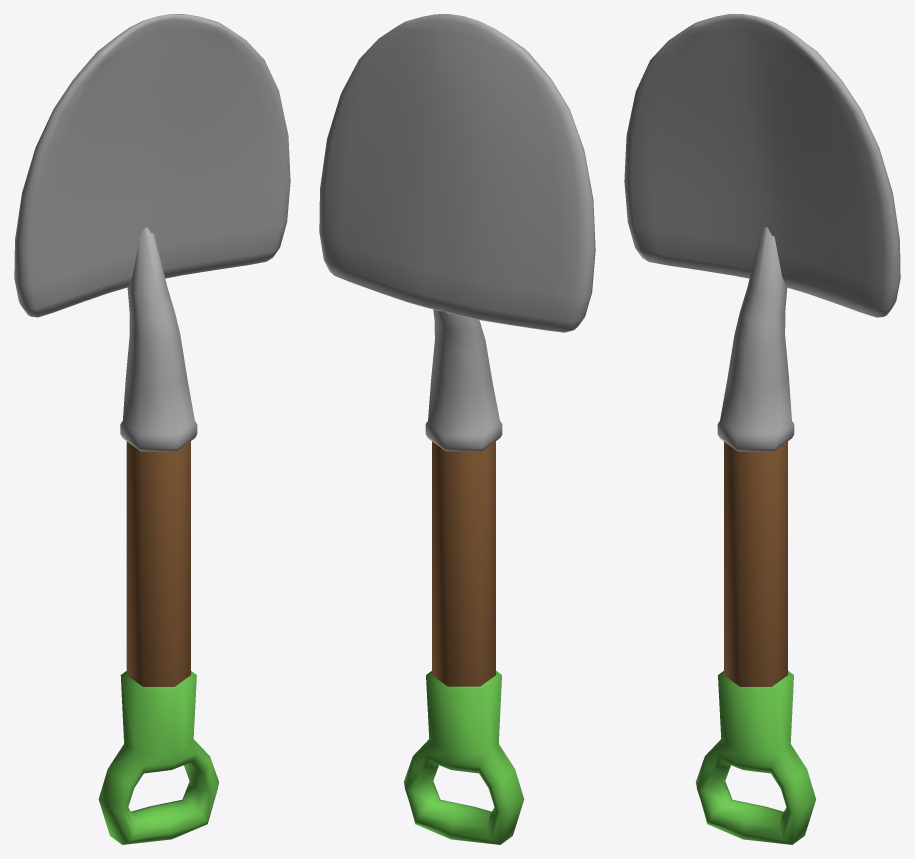
Rendered from Shovel.fbx.
3 views of the same model, side by side, from view 1: azimuth 30°, elevation 25°; view 2: azimuth 150°, elevation 25°; view 3: azimuth 330°, elevation 25° (orthographic).
Visible parts, largest first — view 1: Cube, Cylinder, Cylinder.001, Cylinder.002; view 2: Cube, Cylinder, Cylinder.001, Cylinder.002; view 3: Cube, Cylinder, Cylinder.001, Cylinder.002.
Boxes of the visible parts, left/top/right/bottom form: Cube: left=14, top=14, right=290, bottom=317; Cylinder: left=126, top=441, right=190, bottom=686; Cylinder.001: left=98, top=671, right=218, bottom=844; Cylinder.002: left=120, top=227, right=197, bottom=451; Cube: left=319, top=14, right=595, bottom=332; Cylinder: left=432, top=441, right=495, bottom=686; Cylinder.001: left=403, top=671, right=524, bottom=844; Cylinder.002: left=425, top=309, right=502, bottom=451; Cube: left=624, top=14, right=900, bottom=317; Cylinder: left=724, top=441, right=787, bottom=686; Cylinder.001: left=695, top=671, right=816, bottom=844; Cylinder.002: left=717, top=227, right=794, bottom=451.
Bounding box in the file's own units: 981 × 2801 × 273.
